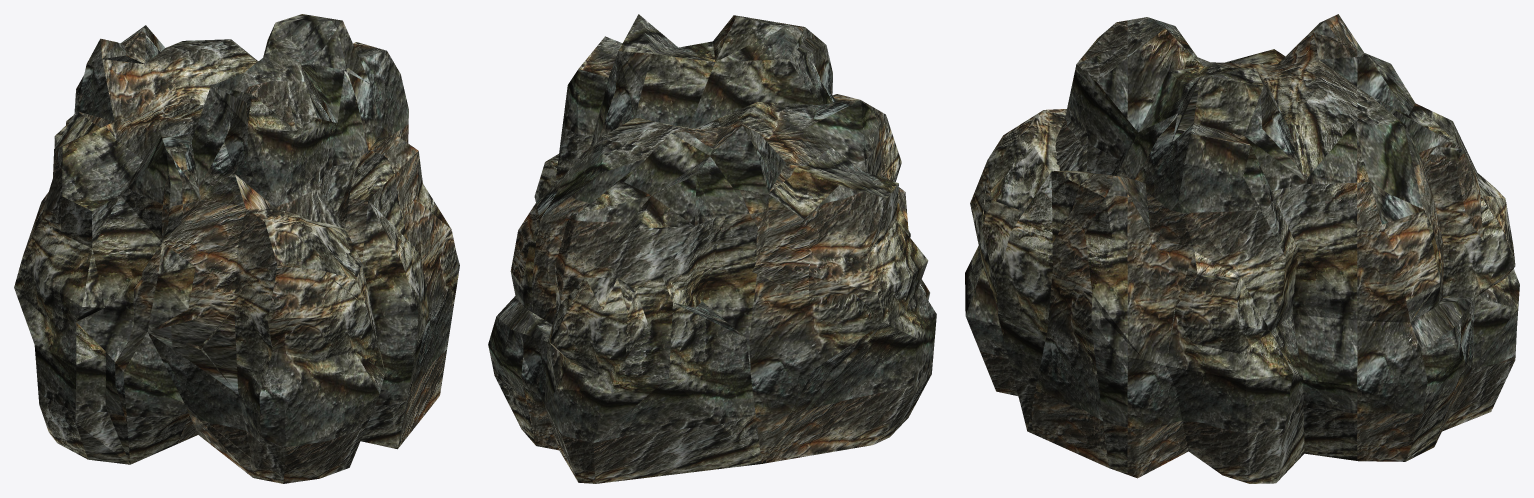
File: CaveRock13.DAE
3 renders of one model, left to right at view 1: azimuth 30°, elevation 25°; view 2: azimuth 150°, elevation 25°; view 3: azimuth 270°, elevation 25°, orthographic. The views are drawn at different scales.
Visible parts, largest first — view 1: CaveRockThirTeen300, CaveRockThirTeen200; view 2: CaveRockThirTeen300, CaveRockThirTeen200; view 3: CaveRockThirTeen300, CaveRockThirTeen200.
Boxes of the visible parts, x1,y1,x2,y2 form: CaveRockThirTeen300: (14,14,459,483); CaveRockThirTeen200: (14,21,439,464); CaveRockThirTeen300: (488,14,936,483); CaveRockThirTeen200: (516,37,927,463); CaveRockThirTeen300: (965,14,1519,483); CaveRockThirTeen200: (970,23,1514,467).
Size of what is drawn, in the model's own units: 14.17 by 16.97 by 12.84.
